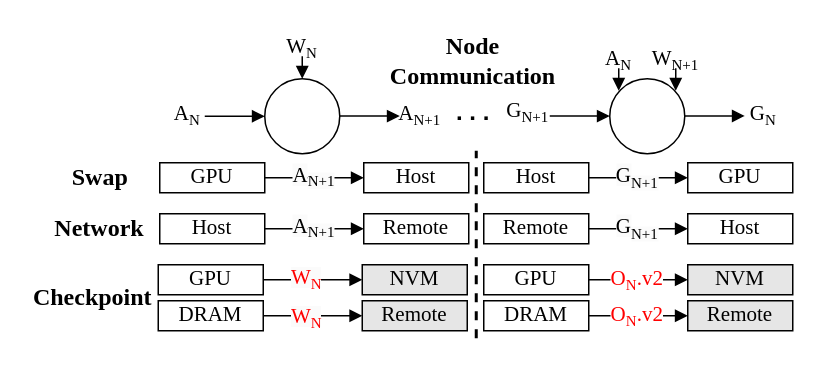
Some shapes in this 819 by 366 pixel diagram are drawn without their labels. The box of each missing label's shape, as (x1, y1, x2, y2) in pixels:
Layer N: (263, 77, 340, 154)
Layer N+1: (608, 77, 685, 154)
